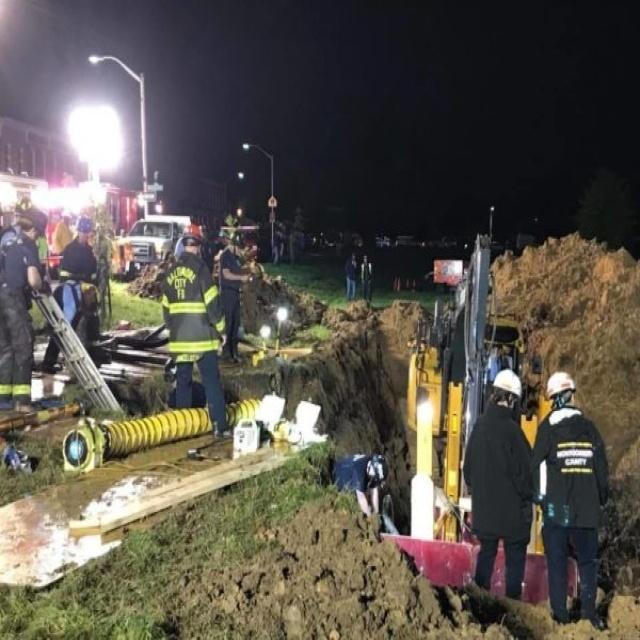helmet: (545, 492, 576, 549), (491, 491, 522, 544), (181, 295, 203, 337), (72, 280, 93, 324)
vest: (163, 347, 226, 481)
